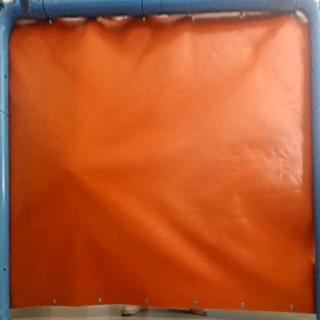Hit-hRxx: (64, 165, 80, 178)
